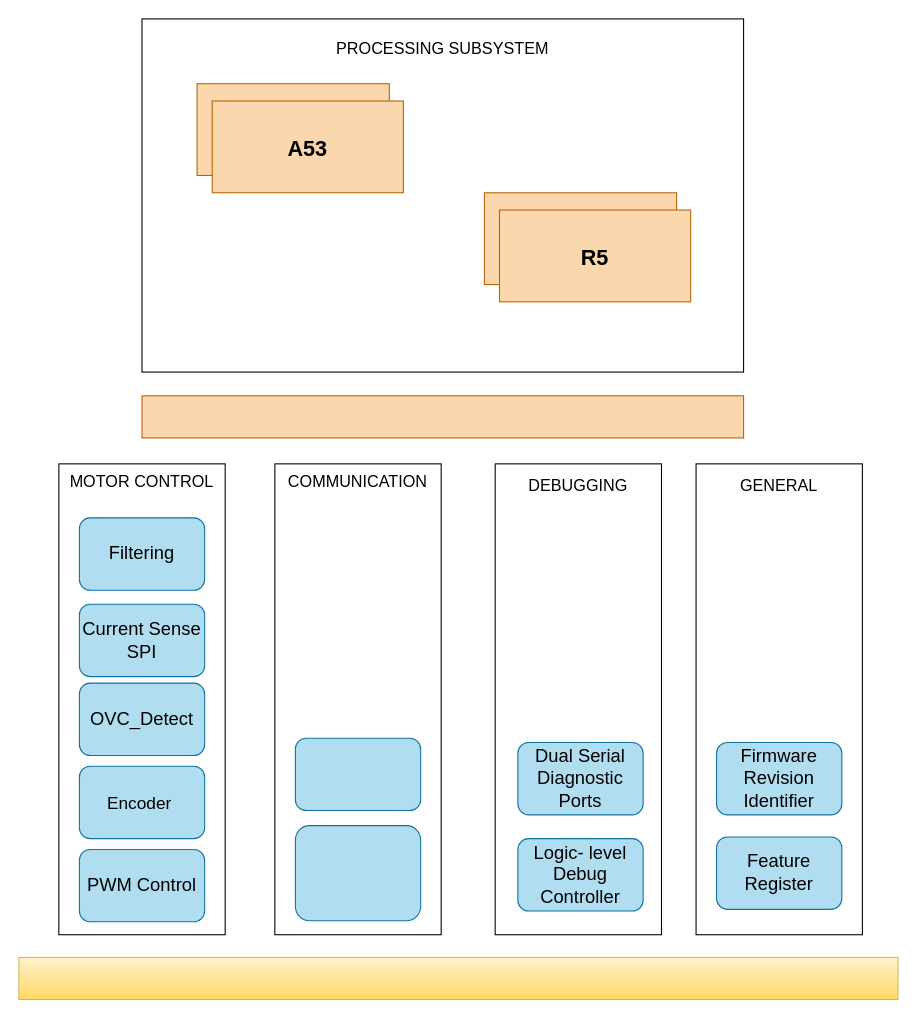
Some shapes in this 917 by 1018 pixel diagram are drawn without their labels. The centre of each missing label's shape, as x and y in pixels:
"AXI" goes at point (442, 416).
"External Pinout" goes at point (458, 978).
"Real Time Network Endpoint" goes at point (357, 774).
"Time-Synchronized Switching Fabric" goes at point (357, 873).
